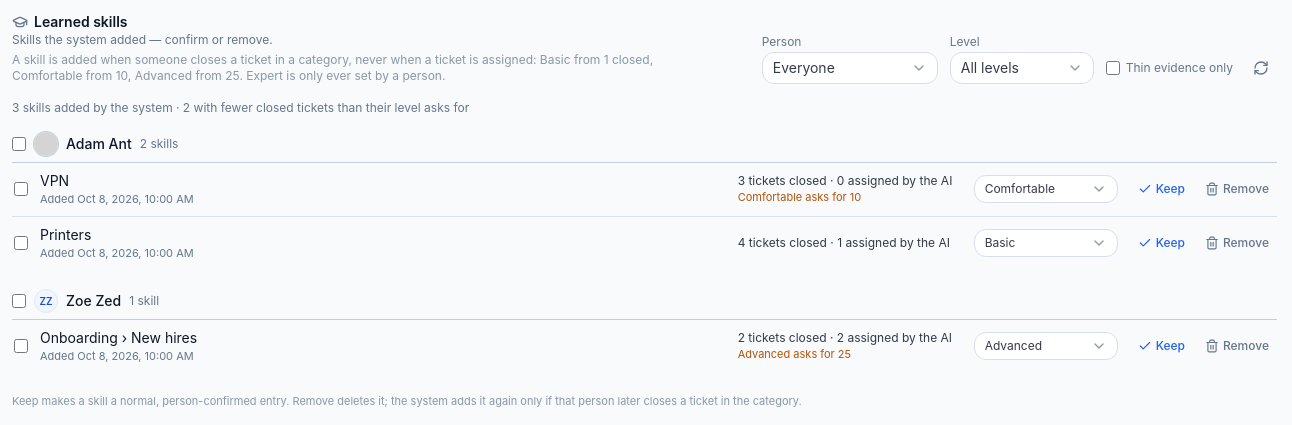
Test: LearnedSkillsTab › Remove asks first, then deletes
This screenshot has width=1292, height=425.
Click the button with aria-label "Remove Onboarding › New hires for Zoe Zed" at (1237, 346), box [1197,332,1277,360]
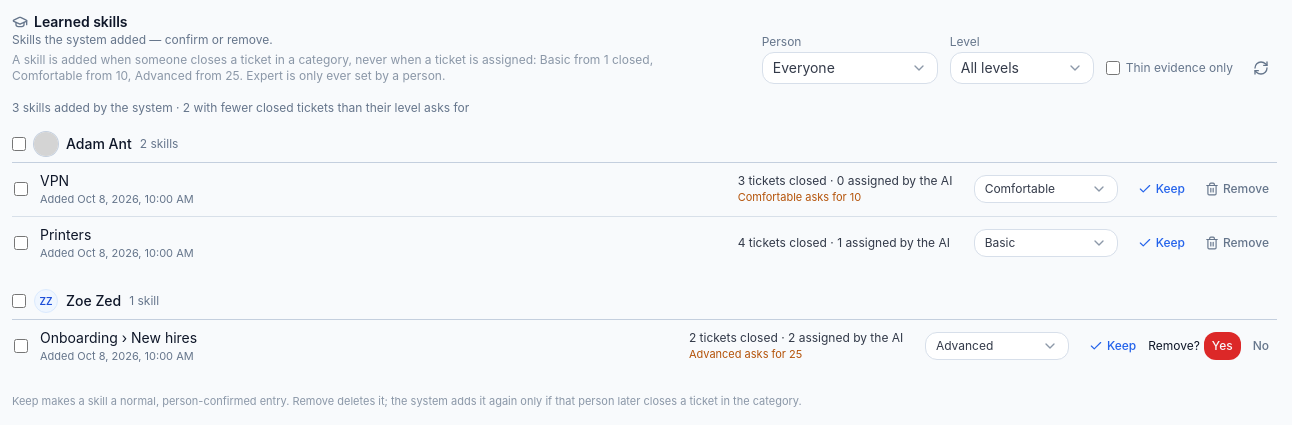
Click the button "No" at (1261, 346), box [1245,332,1277,360]
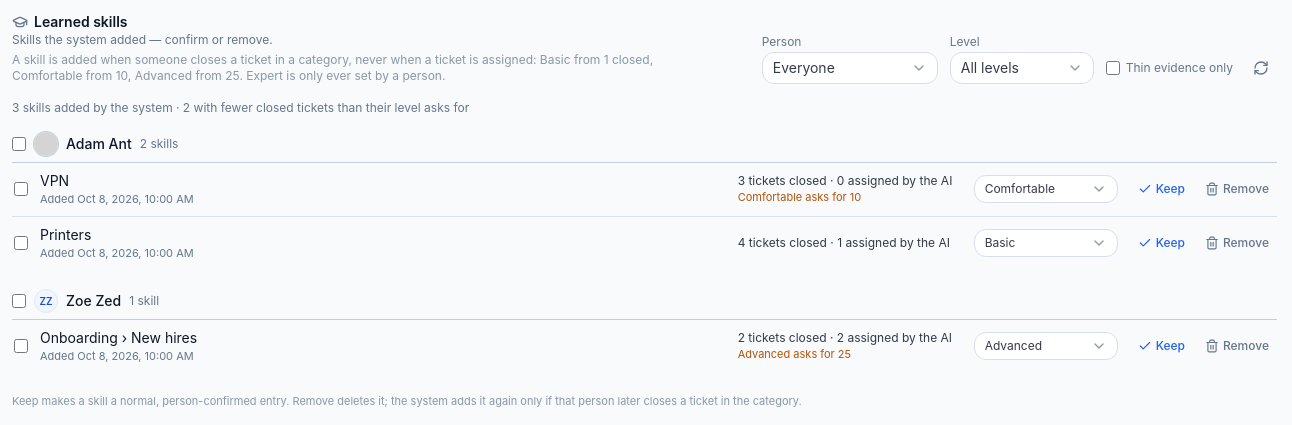
Expected: the number of list items with test id "learned-row" is 3, [12,163,1277,216]; [12,216,1277,269]; [12,320,1277,372]
Click the button with aria-label "Remove Onboarding › New hires for Zoe Zed" at (1237, 346), box [1197,332,1277,360]
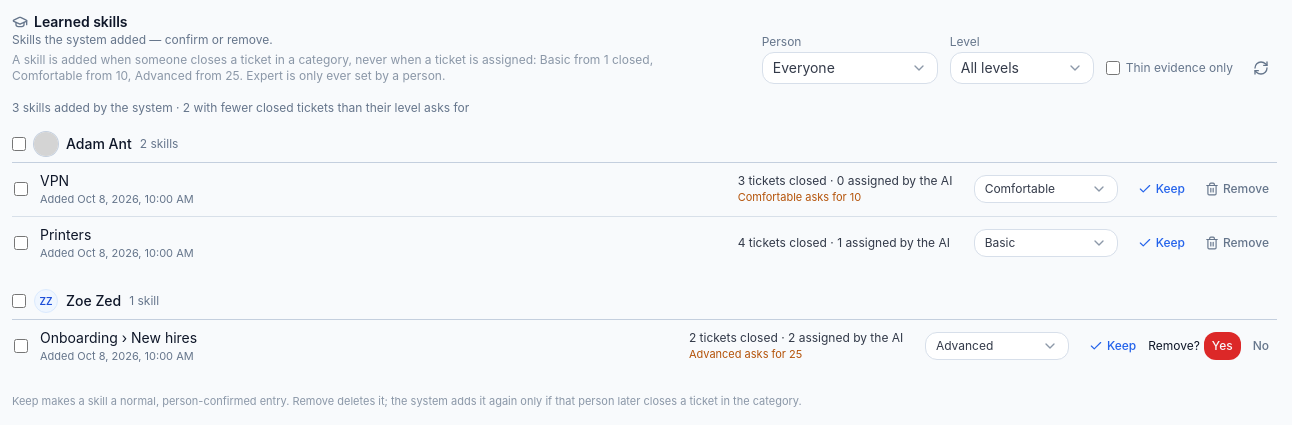
Click the button "Yes" at (1222, 346), box [1204,332,1241,360]
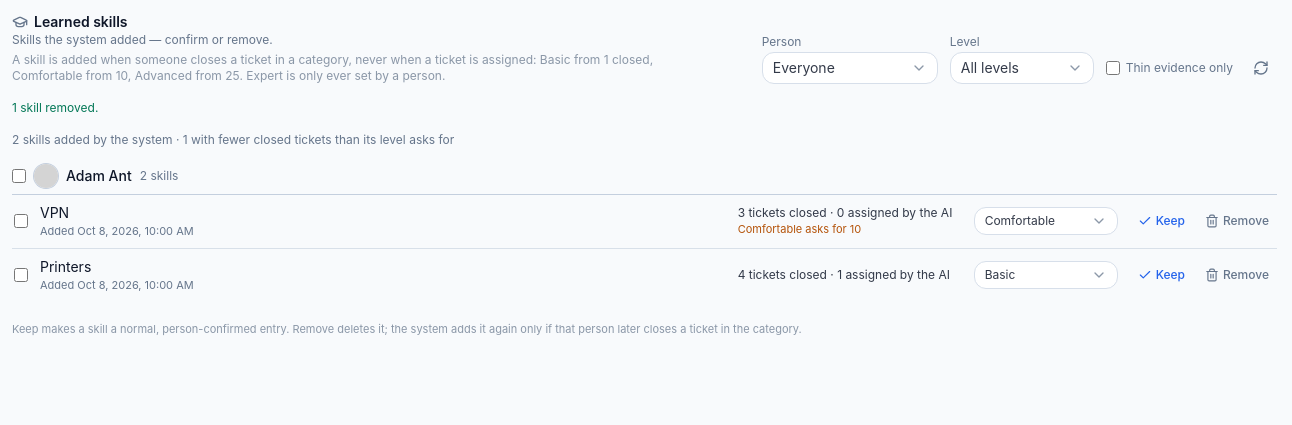
Now the number of list items with test id "learned-row" is 2, box [12,195,1277,248]; [12,248,1277,301]
Now the text "Zoe Zed" is gone
